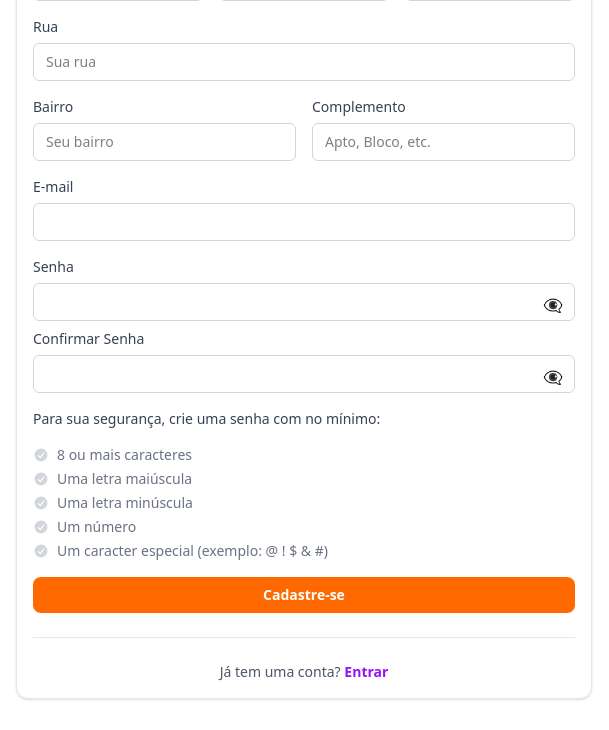
Test: Register Component › deve exibir erro quando campos obrigatórios estão vazios ao submeter
The image size is (609, 730).
(page scrolled)
Click the button "Cadastre-se": click(304, 595) [33,577,575,613]
(page scrolled)
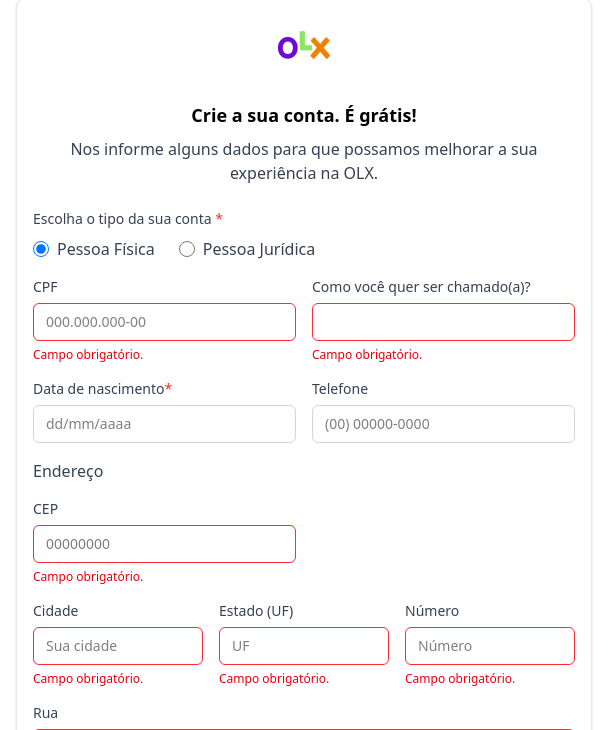
Check: the text "Campo obrigatório." below "CPF" is shown, box [33,346,143,363]
